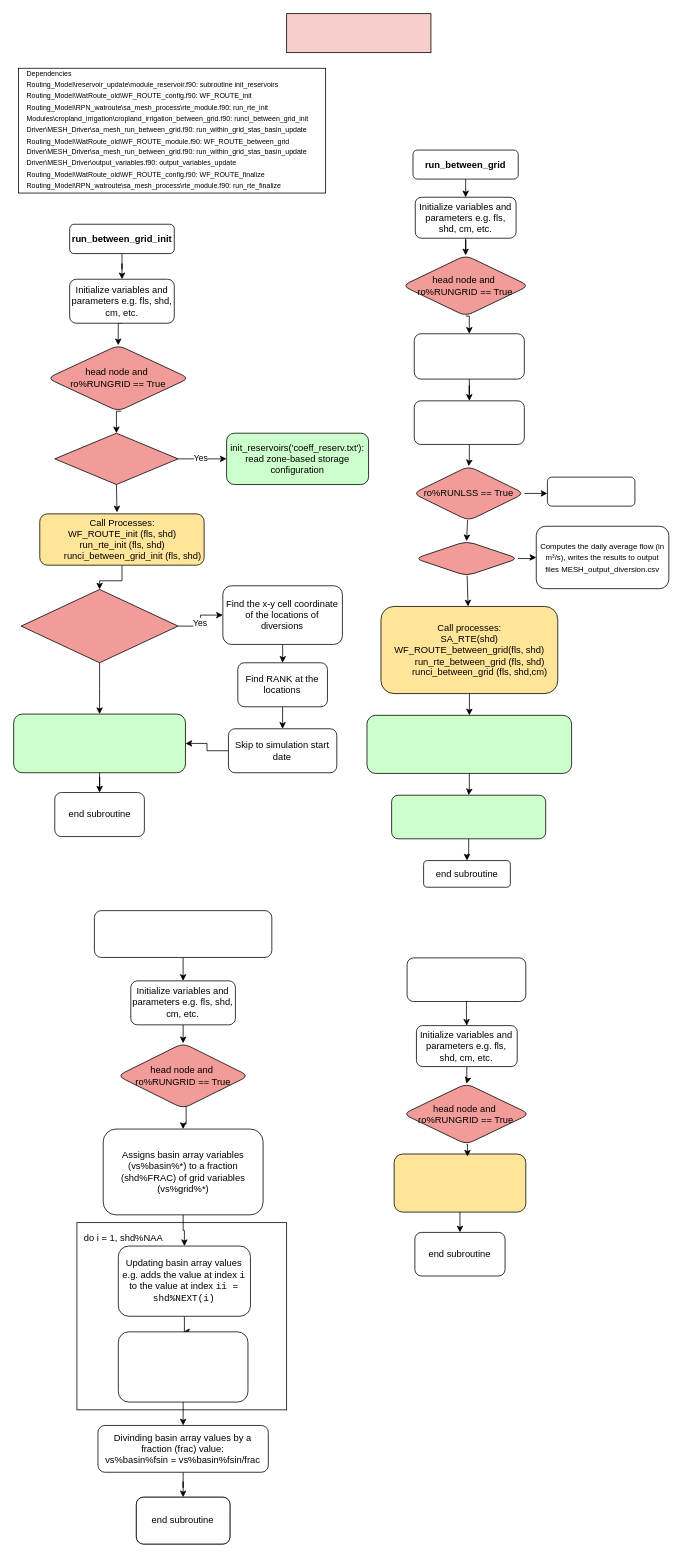
This 683x1558 diagram has some shape labels left out. Here are the shapes that lost their labels. From the top down, the box of each, then its label:
(286, 13, 431, 53): sa_mesh_run_between_grid.f90
(413, 333, 524, 379): read reservoir release values (fms%rsvr) if exists
(413, 400, 524, 444): read observed streamflow values (fms%stmg) if exists
(54, 432, 178, 485): RESERVOIRFLAG == 2
(547, 476, 635, 506): Update grid variables
(414, 540, 518, 576): if (run_div)
(20, 589, 178, 663): Read diversion.txt stored in variable: fn_div if exists
(13, 713, 185, 773): call run_within_grid_stas_basin_update: update basin variables
(366, 715, 572, 773): call run_within_grid_stas_basin_update (fls, shd,cm): update basin variables
(391, 794, 546, 839): call output_variables_update(shd): update output variables
(94, 910, 272, 957): run_within_grid_stas_basin_update
(406, 957, 526, 1002): run_between_grid_finalize
(393, 1153, 526, 1212): Call processes: WF_ROUTE_finalize (fls, shd) run_rte_finalize (fls, shd)
(118, 1331, 248, 1402): Updating relative area function: frac(ii) = frac(ii) + frac(i)
